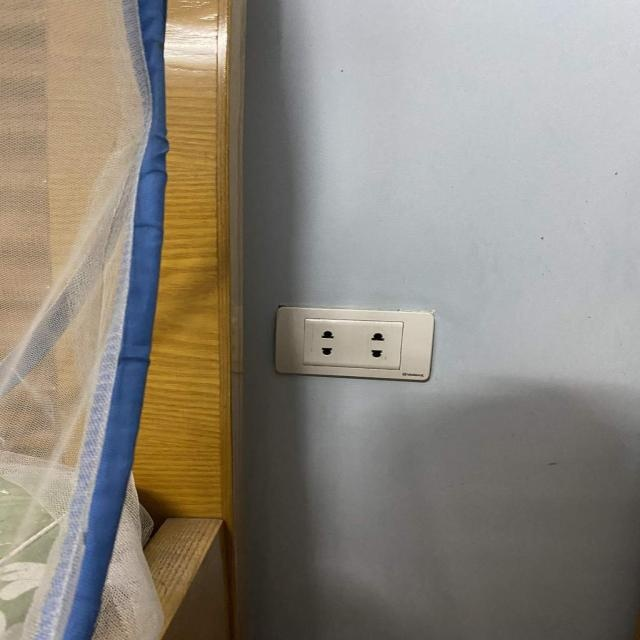outlet: (273, 305, 435, 382)
